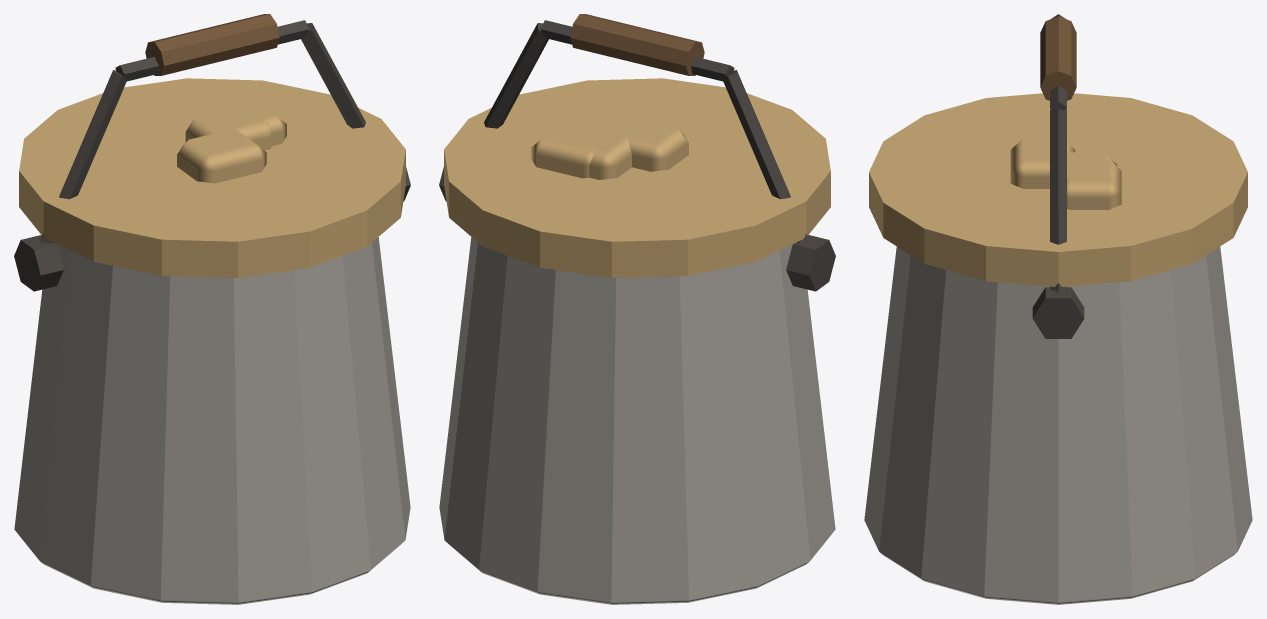
File: CampBucket.glb
3 renders of one model, left to right at view 1: azimuth 30°, elevation 25°; view 2: azimuth 150°, elevation 25°; view 3: azimuth 270°, elevation 25°, orthographic. The views are drawn at different scales.
Parts seen in each view (by area): view 1: CampBucket.001; view 2: CampBucket.001; view 3: CampBucket.001.
Part boxes in pixels (box(x1,y1,x2,y2)): CampBucket.001: box(14, 14, 410, 604); CampBucket.001: box(439, 14, 835, 604); CampBucket.001: box(864, 14, 1252, 604).
Size of the model in its own units: 0.32 by 0.409 by 0.2991.
